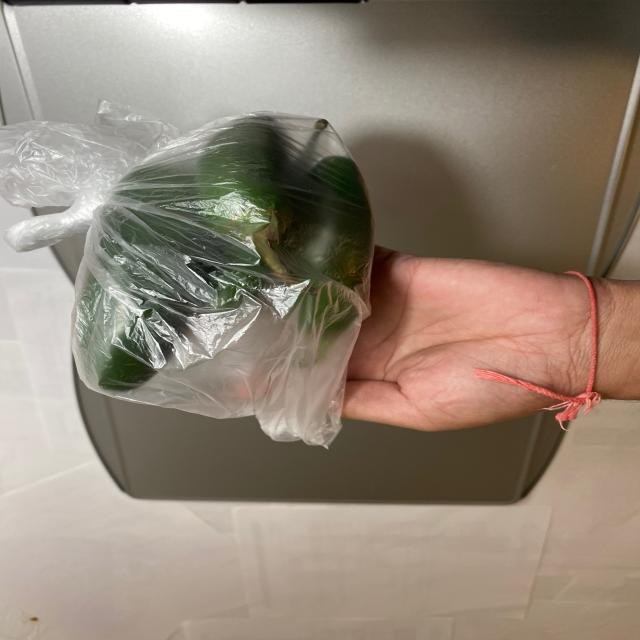chilli: (79, 110, 374, 397)
